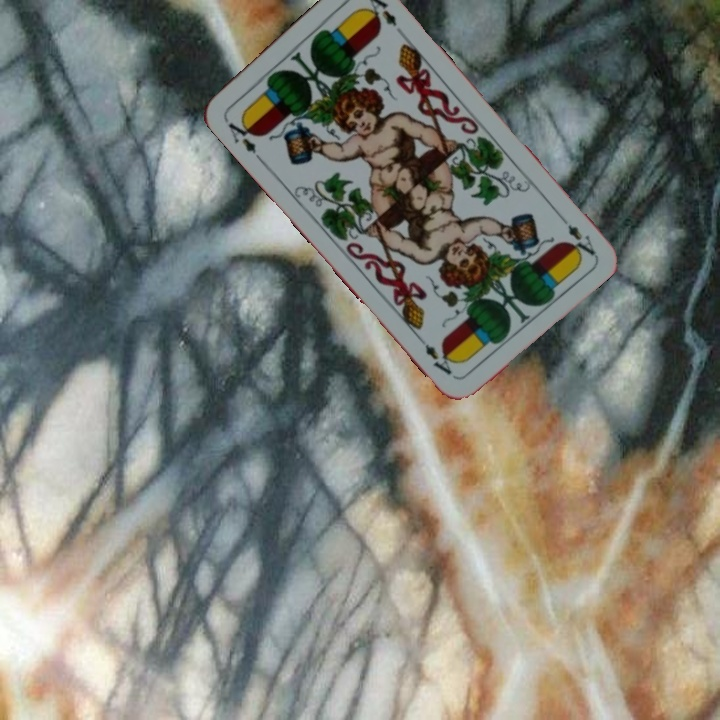EA: (553, 209, 598, 258), (224, 113, 264, 164)
